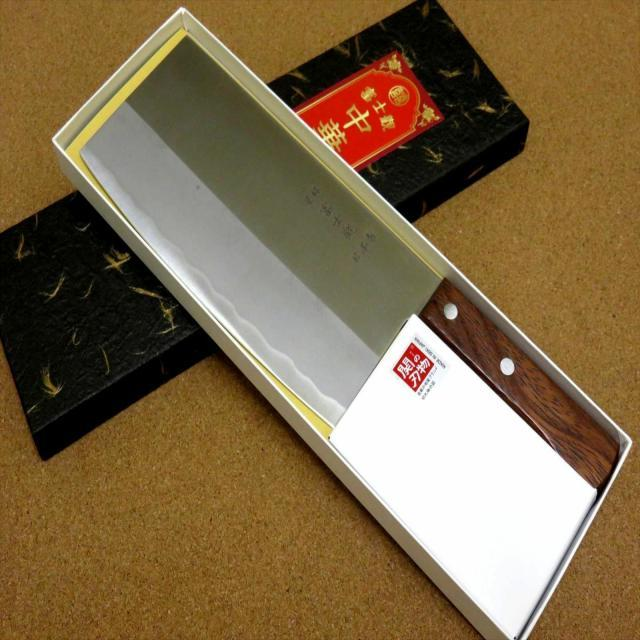cleaver: (82, 39, 620, 494)
